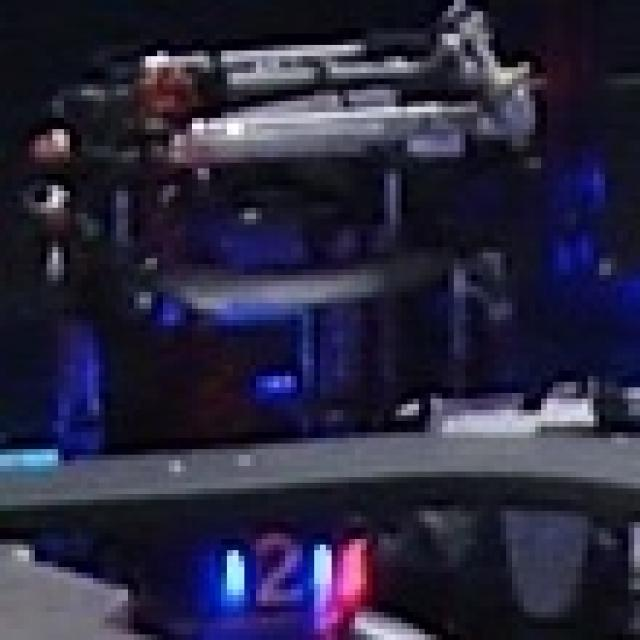B2: (215, 528, 338, 612)
